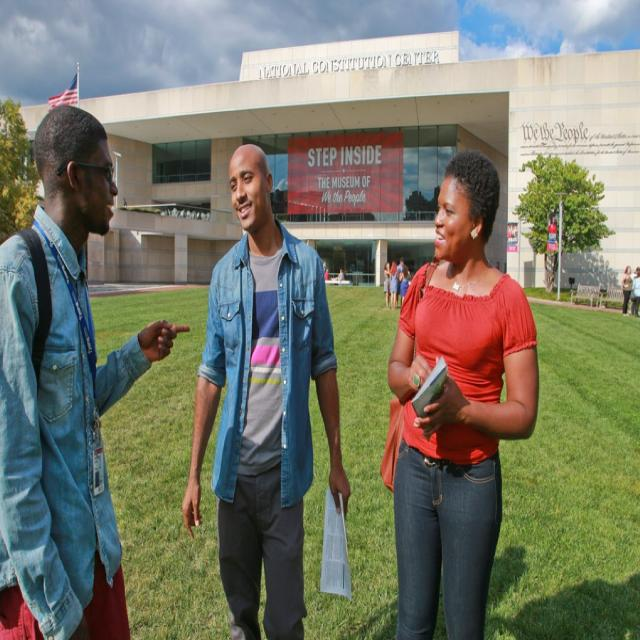body: (0, 96, 191, 639), (179, 139, 353, 640), (384, 145, 543, 639), (620, 264, 633, 318), (398, 264, 412, 308), (388, 259, 399, 312), (630, 264, 640, 319), (322, 259, 352, 272), (383, 262, 391, 310), (396, 257, 405, 284), (330, 268, 345, 280), (122, 191, 128, 212), (324, 266, 329, 280)
